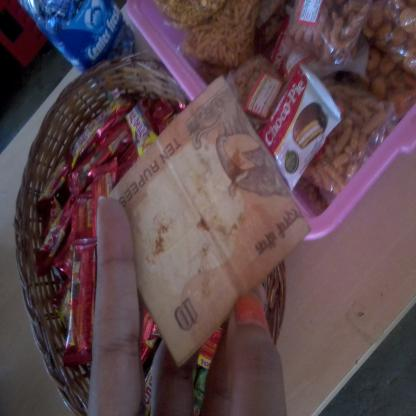Old10Back: (106, 74, 312, 369)
